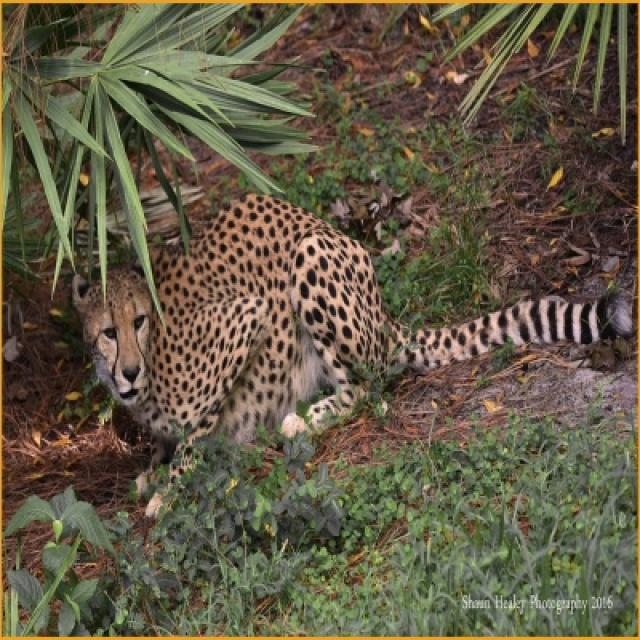Cheetah: (69, 193, 633, 508)
